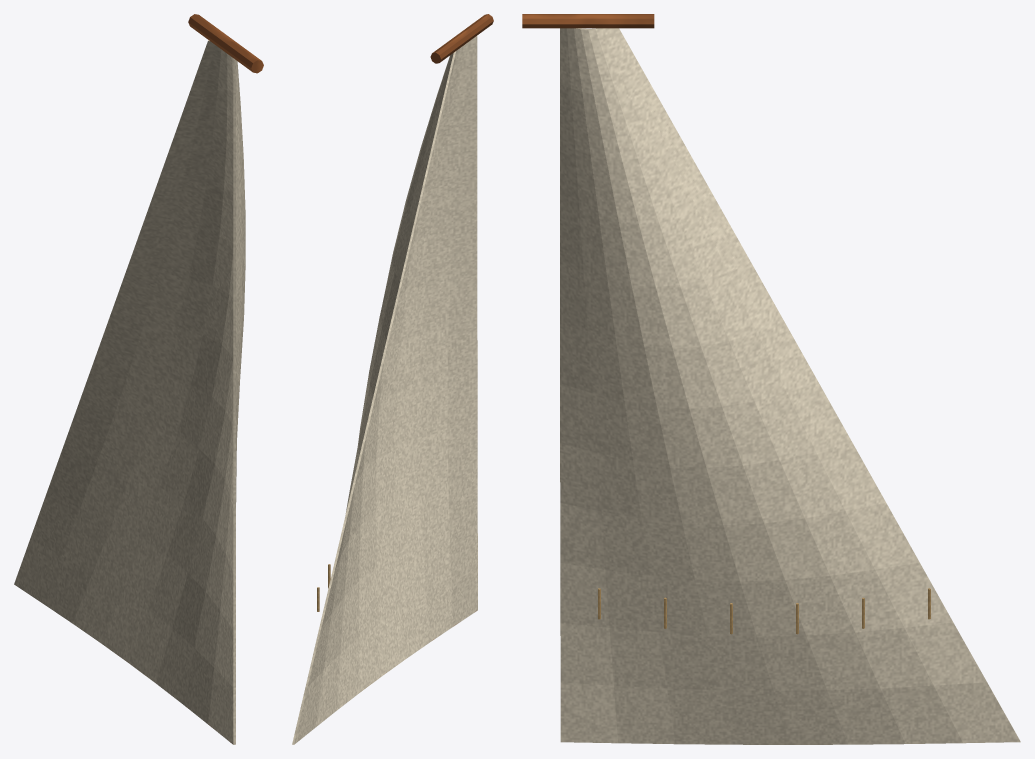
Rendered from upgrade_canvas_mainsail.glb.
3 renders of one model, left to right at view 1: azimuth 30°, elevation 25°; view 2: azimuth 150°, elevation 25°; view 3: azimuth 270°, elevation 25°, orthographic. The views are drawn at different scales.
Parts seen in each view (by area): view 1: upgrade_canvas_mainsail_mesh; view 2: upgrade_canvas_mainsail_mesh; view 3: upgrade_canvas_mainsail_mesh.
Part boxes in pixels (x1,y1,x2,y2): upgrade_canvas_mainsail_mesh: [14, 14, 263, 744]; upgrade_canvas_mainsail_mesh: [292, 14, 493, 744]; upgrade_canvas_mainsail_mesh: [522, 14, 1020, 744].
Bounding box in the file's own units: 0.5816 × 7.32 × 4.53.
Materials: 1 (1 with a texture image).
